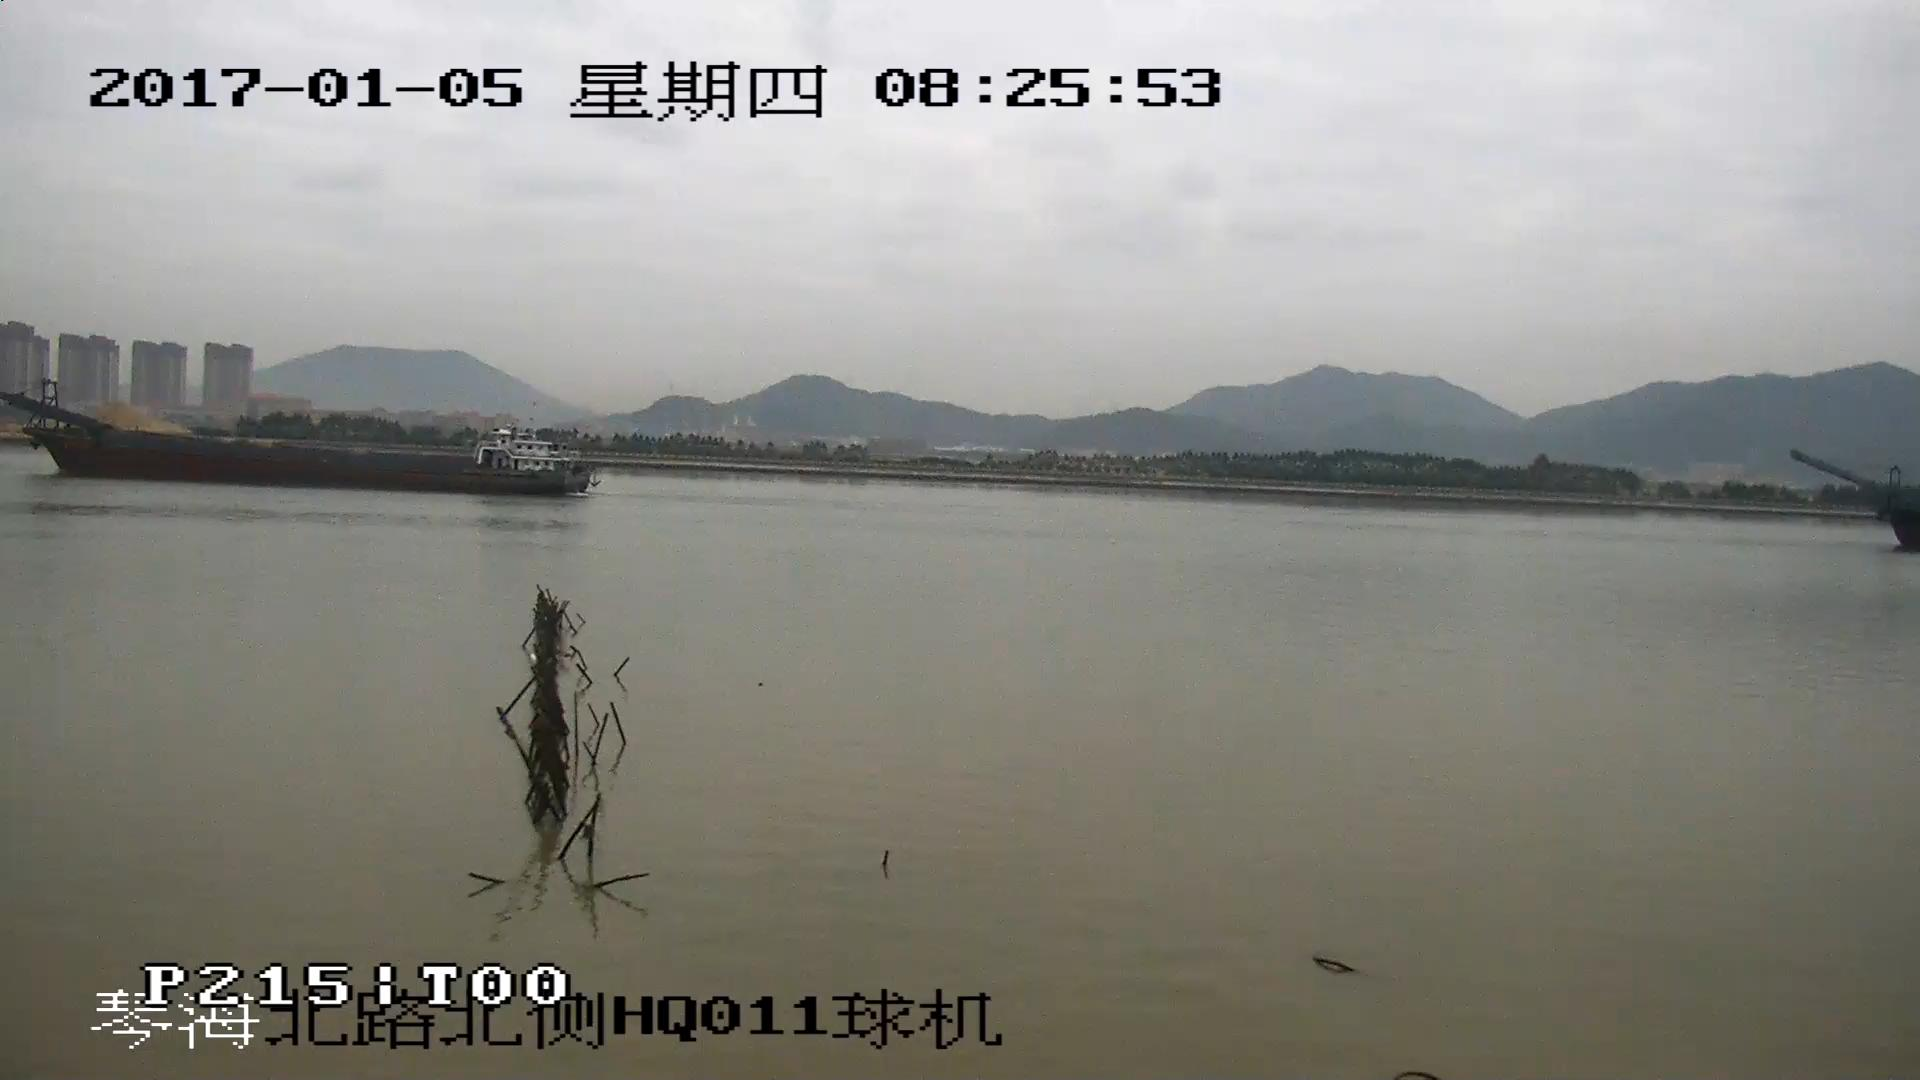bulk cargo carrier: (1, 378, 594, 494), (1793, 452, 1920, 548)
